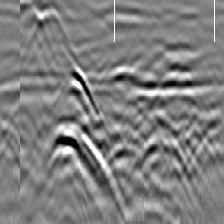Utility: (51, 64, 124, 222), (128, 110, 223, 174)
